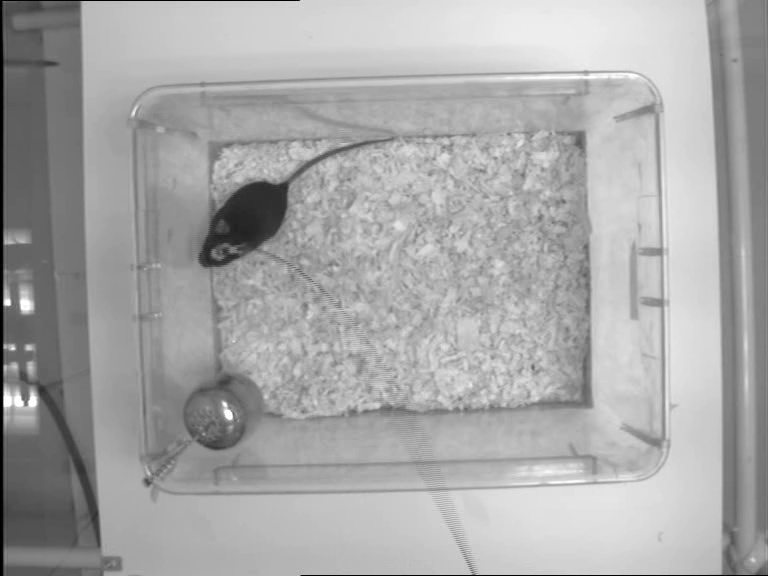mice: (196, 135, 404, 269)
